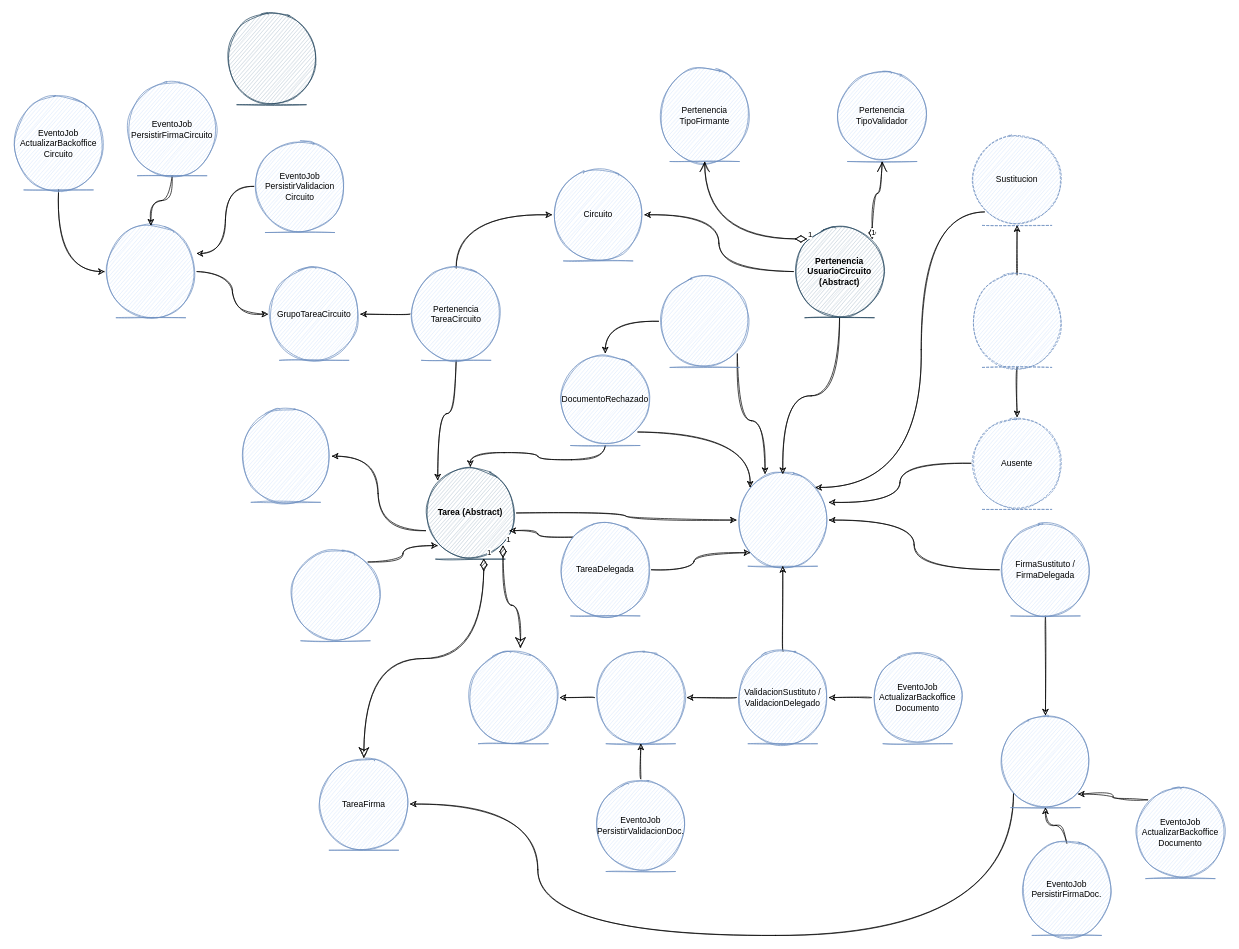
Some shapes in this 1239 by 949 pixel diagram are drawn without their labels. The centre of each missing label's shape, as x and y in pixels:
Ausencia: the point at 1016,320
CircuitoCompletado: the point at 150,271
DocumentoFirmado: the point at 1045,761
DocumentoRepositorio: the point at 285,455
DocumentoValidado: the point at 640,697
EventoJob (Abstract): the point at 271,58
RechazoSustituto / RechazoDelegado: the point at 704,320
TareaOmitida: the point at 335,594
TareaValidacion: the point at 513,697
Usuario: the point at 782,519
